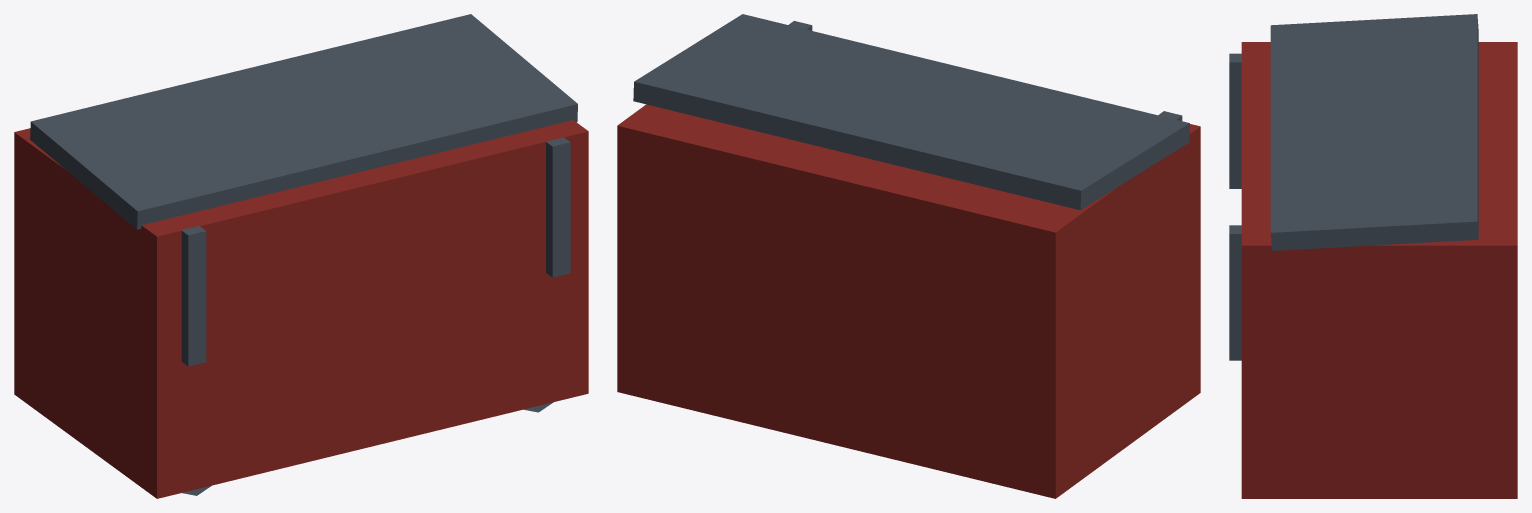
The model's file is dumpster_01.glb.
3 renders of one model, left to right at view 1: azimuth 30°, elevation 25°; view 2: azimuth 150°, elevation 25°; view 3: azimuth 270°, elevation 25°, orthographic. The views are drawn at different scales.
Parts seen in each view (by area): view 1: dumpster_01; view 2: dumpster_01; view 3: dumpster_01.
Part boxes in pixels (x1,y1,x2,y2): dumpster_01: (14, 14, 588, 498); dumpster_01: (617, 14, 1200, 498); dumpster_01: (1229, 14, 1517, 498).
Bounding box in the file's own units: 1.96 × 1.28 × 1.15.
